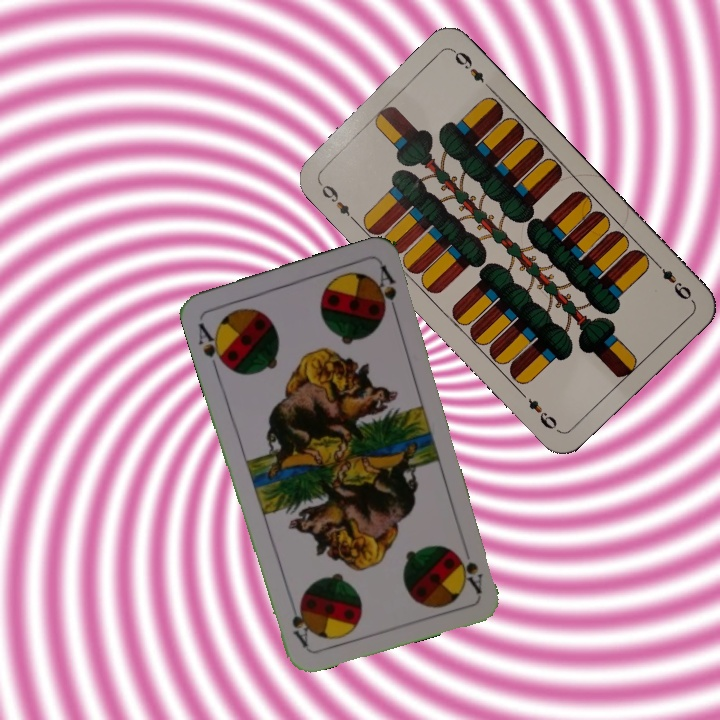E9: (314, 177, 359, 224), (650, 257, 694, 303)
SA: (194, 318, 230, 372), (452, 538, 485, 596)
